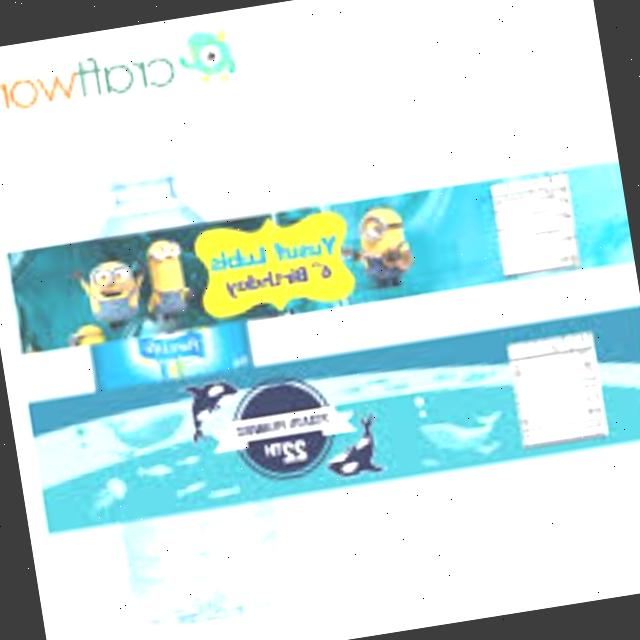trash: (54, 136, 295, 640)
